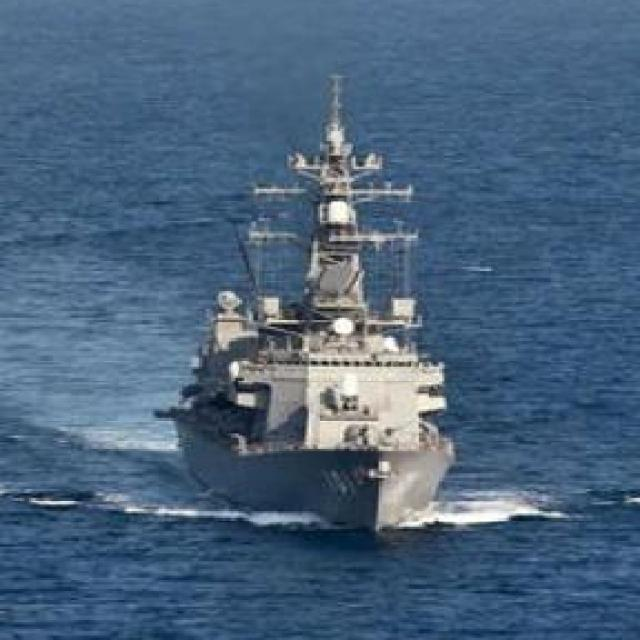navalvessels: (145, 75, 509, 538)
